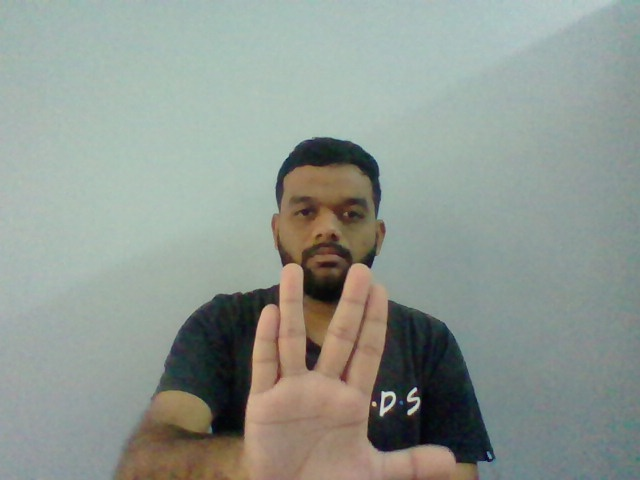Live long and prosper: (242, 262, 454, 480)
